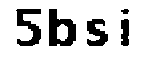5: (13, 6, 45, 49)
b: (47, 4, 80, 51)
i: (117, 4, 138, 50)
s: (84, 17, 113, 49)
